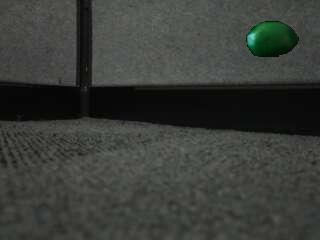Lime: (247, 22, 300, 57)
